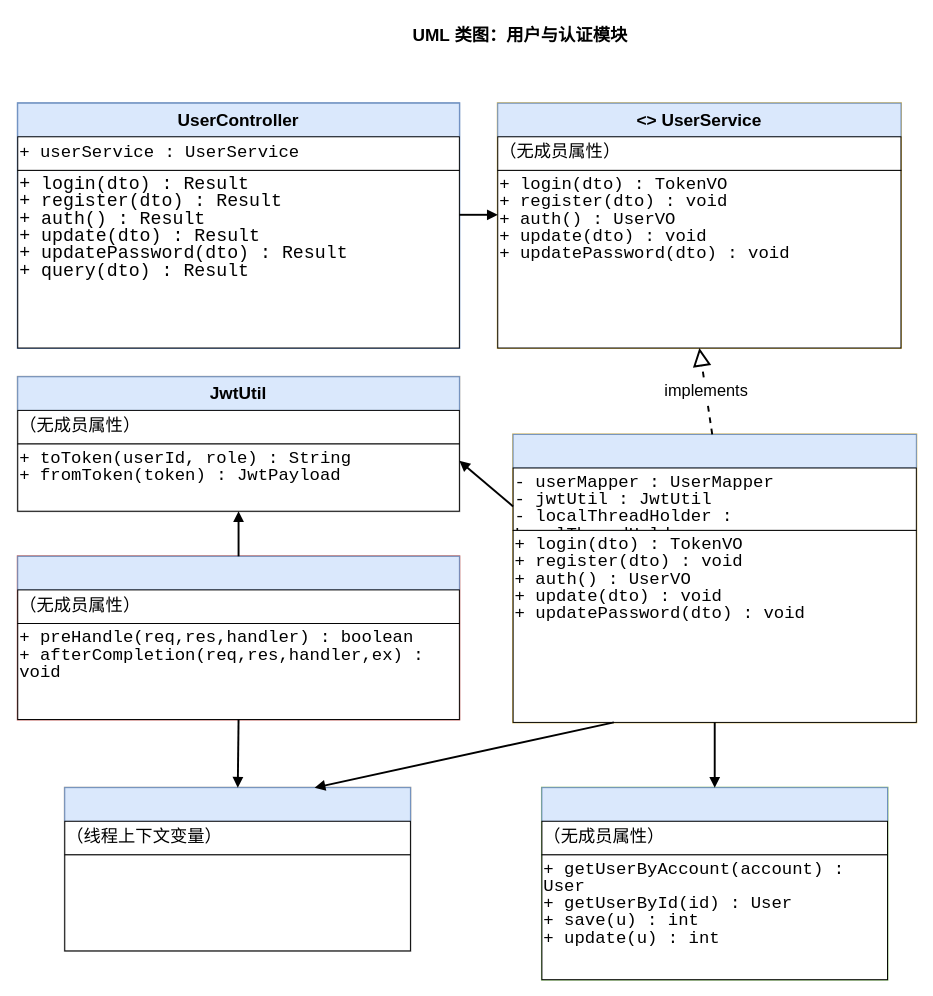
Some shapes in this 933 by 996 pixel diagram are drawn without their labels. The shapes that lost their labels are listed below. From the top down, each one's centre as x and y in pixels, then its label:
[714,450]: UserServiceImpl
[238,572]: JwtInterceptor
[237,804]: LocalThreadHolder
[714,804]: <> UserMapper
[237,902]: + setUserId(id, role) : void + getUserId() : Integer + clear() : void
